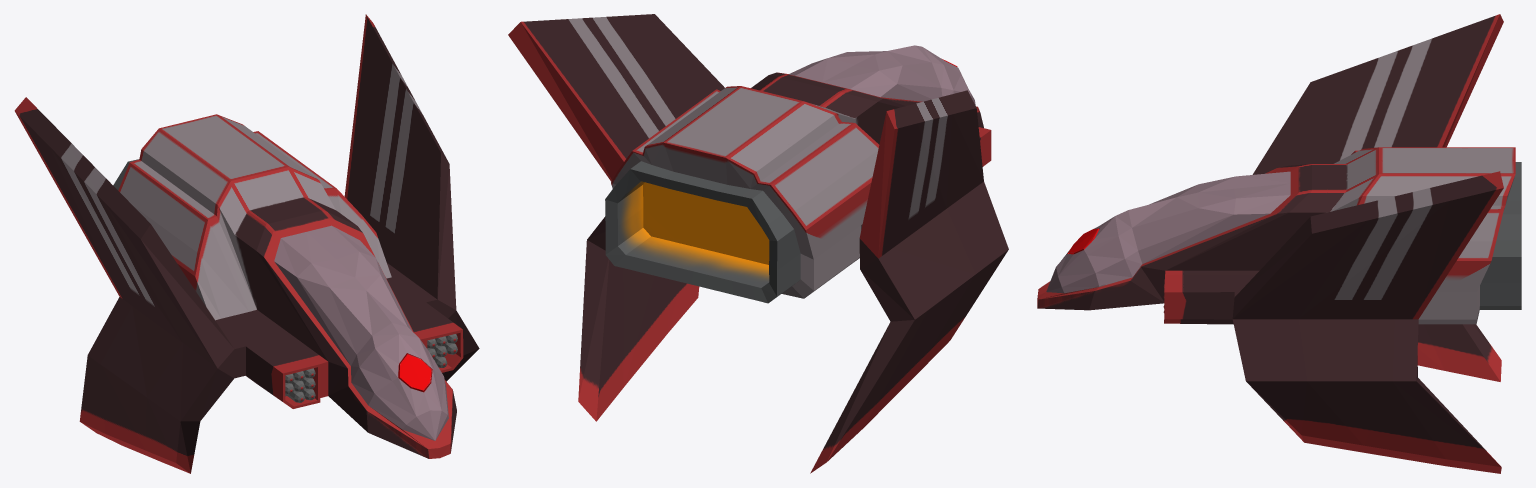
The model's file is Bombardier.fbx.
3 views of the same model, side by side, from view 1: azimuth 30°, elevation 25°; view 2: azimuth 150°, elevation 25°; view 3: azimuth 270°, elevation 25° (orthographic). The views are drawn at different scales.
Visible parts, largest first — view 1: Bombardier:Bombardier1; view 2: Bombardier:Bombardier1; view 3: Bombardier:Bombardier1.
Boxes of the visible parts, x1=… form: Bombardier:Bombardier1: x1=14, y1=14, x2=479, y2=473; Bombardier:Bombardier1: x1=508, y1=14, x2=1008, y2=473; Bombardier:Bombardier1: x1=1037, y1=14, x2=1521, y2=473.
Bounding box in the file's own units: 421 × 397 × 520.
